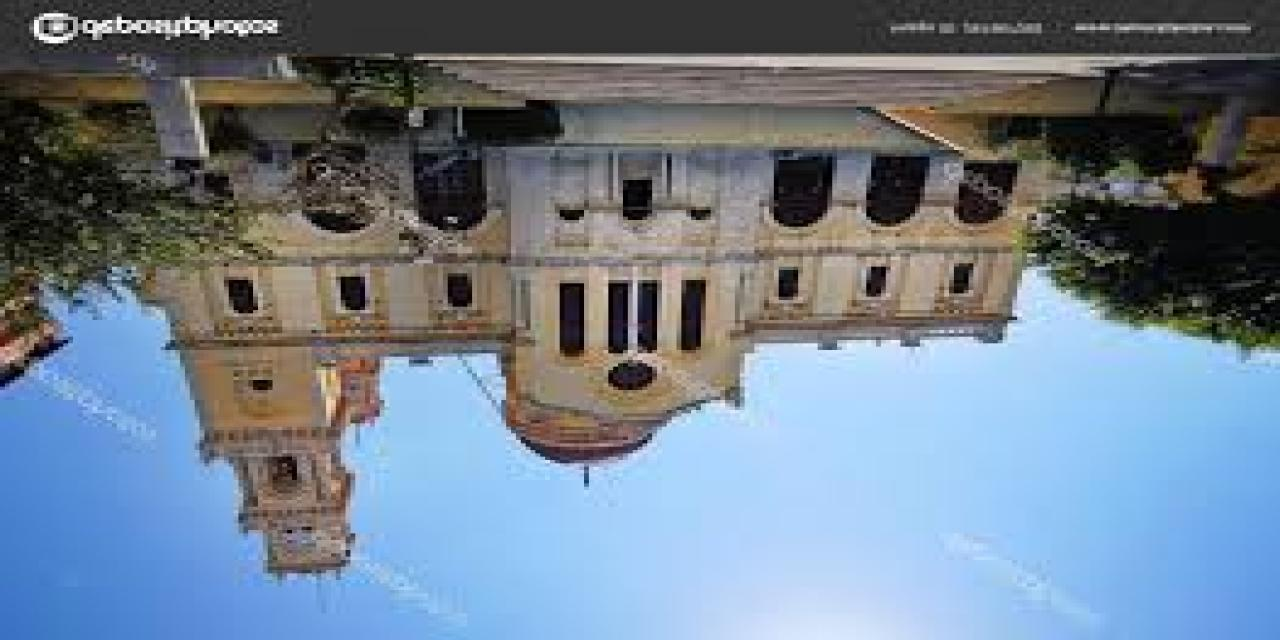Agios Minas: (146, 112, 1049, 600)
